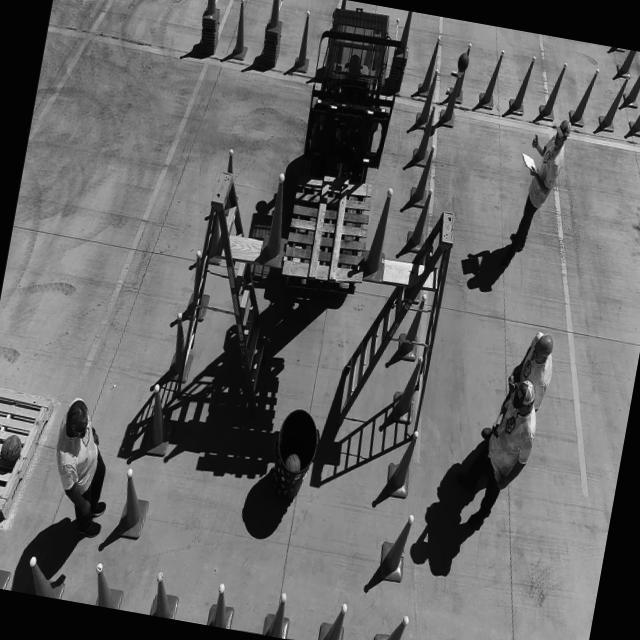forklift: (296, 1, 412, 186)
person: (39, 392, 123, 539), (508, 114, 572, 264), (482, 375, 545, 504), (512, 325, 554, 390)
